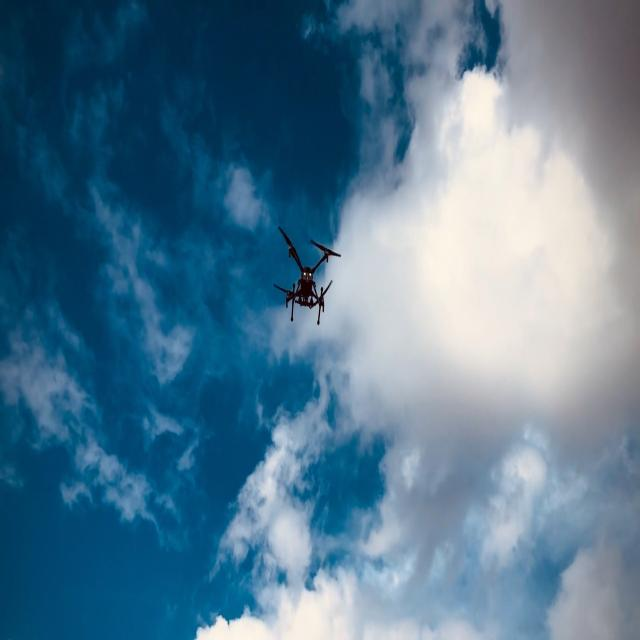drone: (273, 225, 341, 325)
